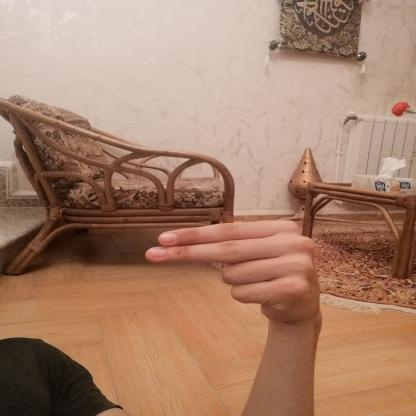AYN: (129, 205, 344, 337)
